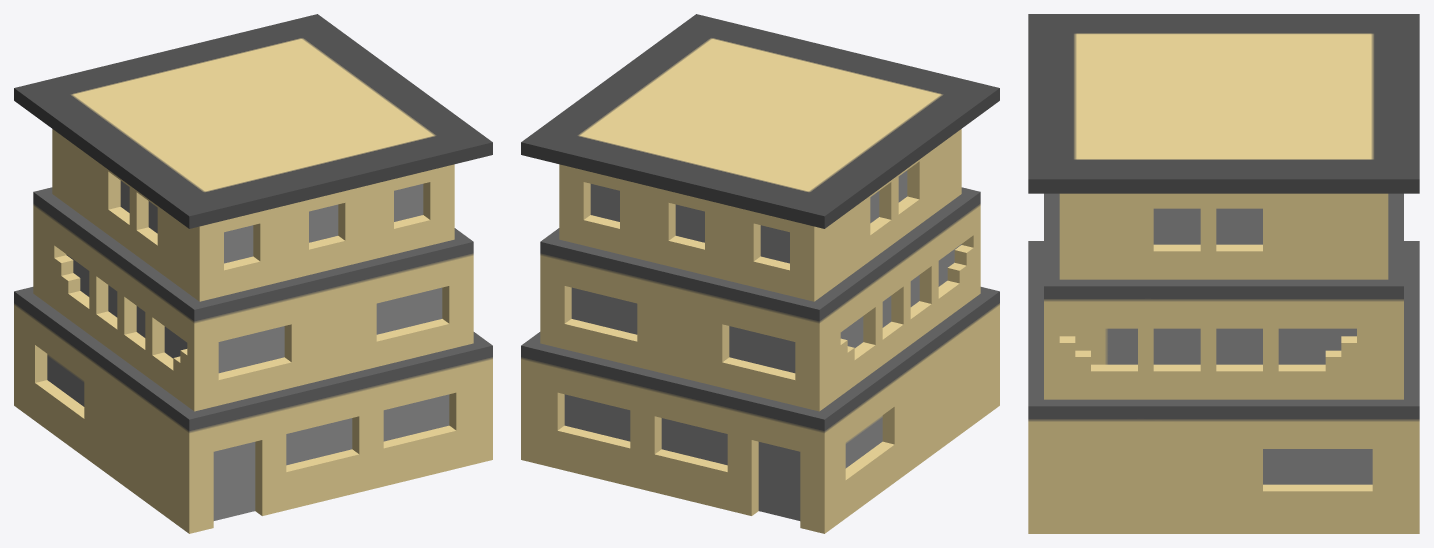
File: twelvethModel.fbx
3 views of the same model, side by side, from view 1: azimuth 30°, elevation 25°; view 2: azimuth 150°, elevation 25°; view 3: azimuth 270°, elevation 25° (orthographic). The views are drawn at different scales.
Parts seen in each view (by area): view 1: Box; view 2: Box; view 3: Box.
Boxes of the visible parts, x1=… form: Box: x1=14, y1=14, x2=492, y2=533; Box: x1=521, y1=14, x2=999, y2=533; Box: x1=1028, y1=14, x2=1419, y2=533.
Size of the model in its own units: 25 by 25 by 25.
1 material, 1 textured.
